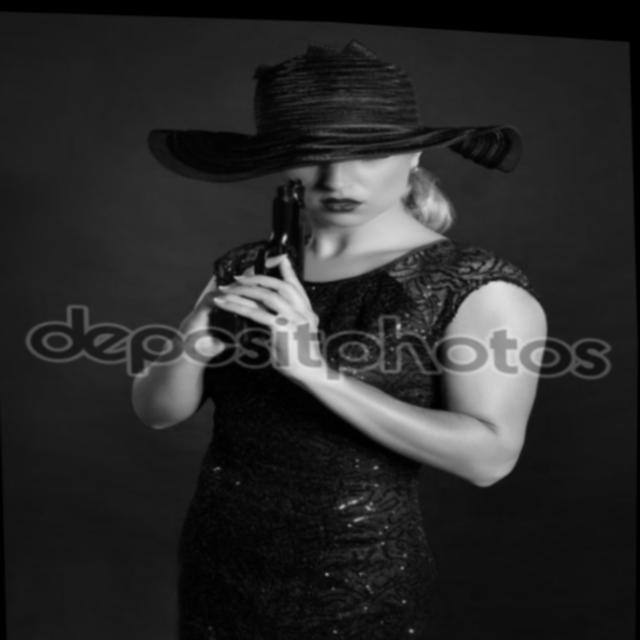weapon: (203, 166, 313, 355)
